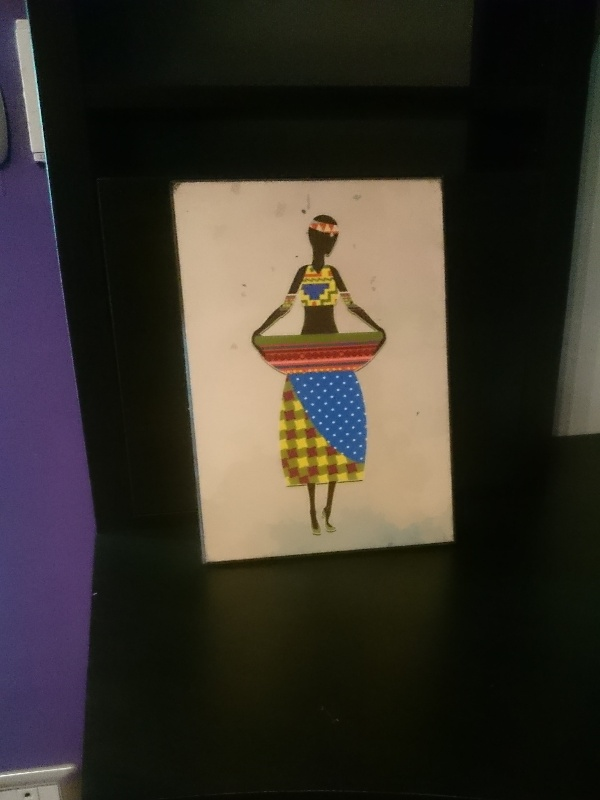my image: (173, 182, 448, 560)
